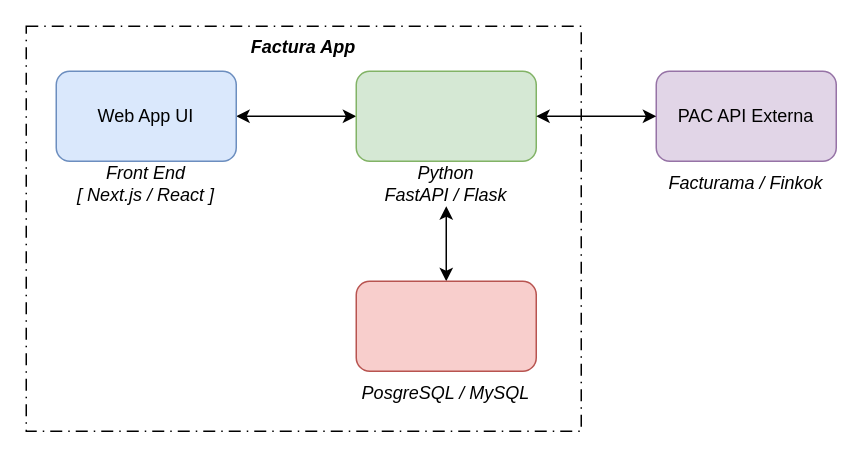
Some shapes in this 863 by 458 pixel diagram are drawn without their labels. The shapes that lost their labels are listed below. From the top down, each one's box as (x1, y1, x2, y2) in pixels, then its label:
(355, 70, 536, 161): Back End API REST / GraphQL
(355, 280, 536, 371): Base de Datos SQL
